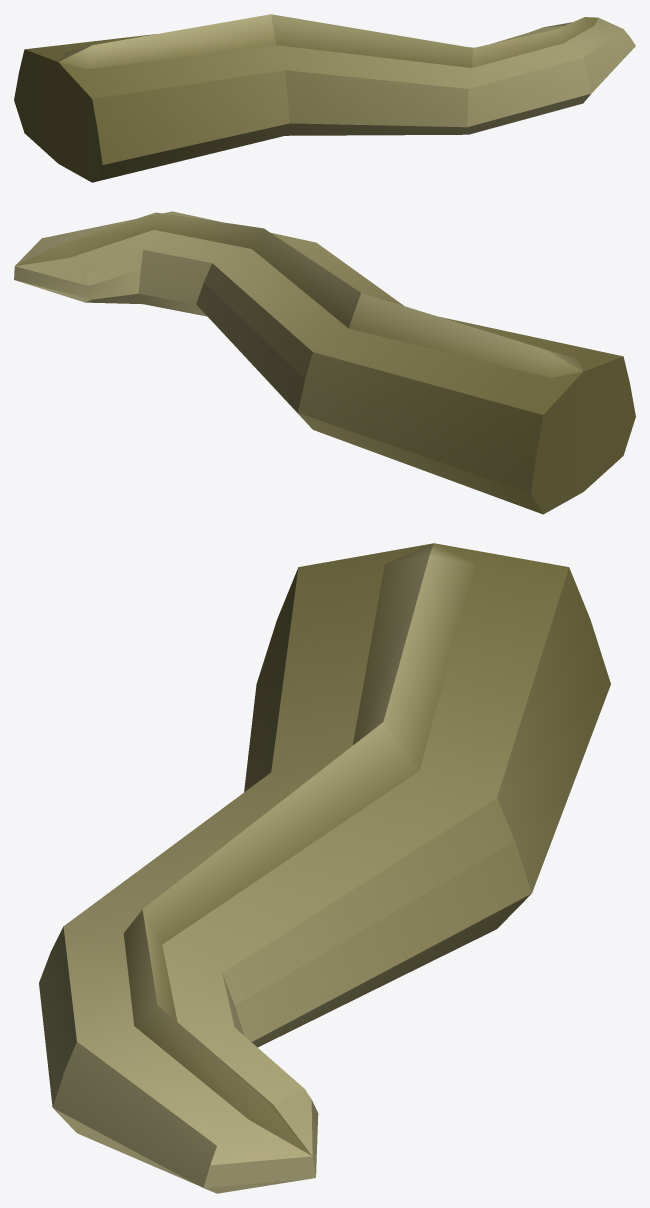
Rendered from Croco_tail.fbx.
3 renders of one model, top to bottom at view 1: azimuth 30°, elevation 25°; view 2: azimuth 150°, elevation 25°; view 3: azimuth 270°, elevation 25°, orthographic. The views are drawn at different scales.
Parts seen in each view (by area): view 1: Croco_tail; view 2: Croco_tail; view 3: Croco_tail.
Boxes of the visible parts, <box> form: Croco_tail: <box>14,14,635,182</box>; Croco_tail: <box>14,211,635,514</box>; Croco_tail: <box>39,543,610,1193</box>.
Bounding box in the file's own units: 115 × 23.43 × 54.55.
